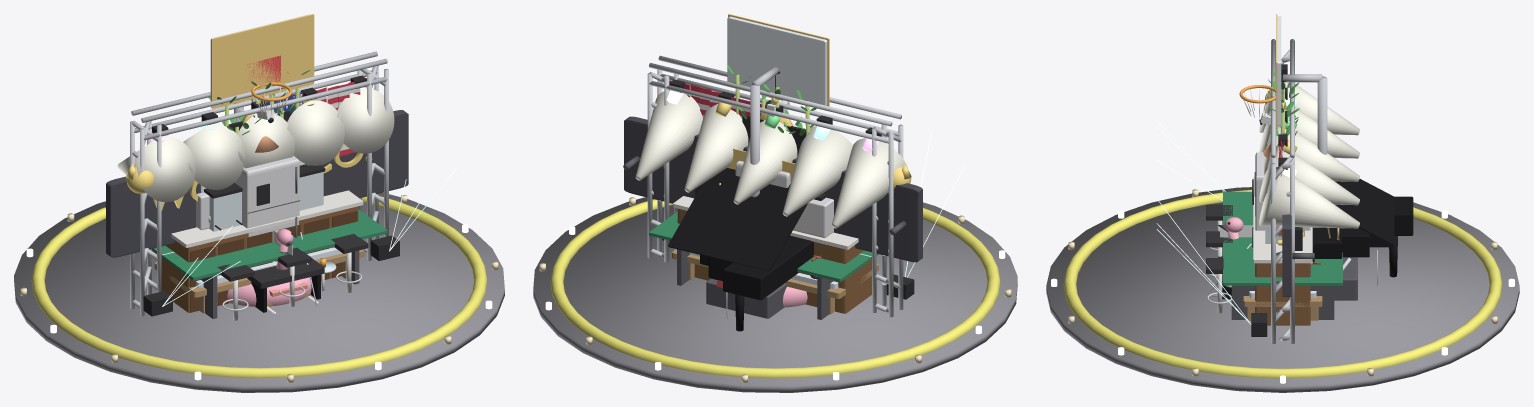
Rendered from PropPack2.fbx.
3 views of the same model, side by side, from view 1: azimuth 30°, elevation 25°; view 2: azimuth 150°, elevation 25°; view 3: azimuth 270°, elevation 25° (orthographic). The views are drawn at different scales.
Parts seen in each view (by area): view 1: Concrete_PadConcrete, Neon_LightBeam, Metal_Steel.007, SmoothPlastic_PadLine, Metal_SignBack, Metal_Gold.003, Wood_PPGreen, Metal_Chrome.018, Wood_SlatDark, Marble_White.001, Wood_Walnut.012, Glass_Clear.005 (+14 smaller); view 2: Concrete_PadConcrete, Neon_LightBeam, SmoothPlastic_PianoBlack, Metal_Steel.007, SmoothPlastic_PadLine, Metal_SignBack, Glass_Backboard, Wood_Walnut.012, Wood_PPGreen, Metal_Graphite.001, Metal_Chrome.014, Metal_Steel (+9 smaller); view 3: Concrete_PadConcrete, SmoothPlastic_PadLine, Neon_LightBeam, SmoothPlastic_PianoBlack, Wood_PPGreen, Metal_Steel.007, Wood_Walnut.012, Metal_Graphite.018, Metal_Steel, Marble_White.001, Leather_Black, Metal_SignBack (+7 smaller).
Part boxes in pixels (left/top/right/bottom): Concrete_PadConcrete: left=14, top=192, right=504, bottom=392; Neon_LightBeam: left=117, top=88, right=394, bottom=202; Metal_Steel.007: left=130, top=51, right=388, bottom=316; SmoothPlastic_PadLine: left=31, top=196, right=487, bottom=377; Metal_SignBack: left=106, top=110, right=408, bottom=257; Metal_Gold.003: left=211, top=14, right=314, bottom=108; Wood_PPGreen: left=152, top=209, right=387, bottom=280; Metal_Chrome.018: left=234, top=156, right=299, bottom=261; Wood_SlatDark: left=190, top=210, right=357, bottom=312; Marble_White.001: left=171, top=190, right=363, bottom=247; Wood_Walnut.012: left=161, top=206, right=358, bottom=312; Glass_Clear.005: left=209, top=172, right=323, bottom=231; Concrete_PadConcrete: left=533, top=197, right=1017, bottom=392; Neon_LightBeam: left=635, top=91, right=907, bottom=228; SmoothPlastic_PianoBlack: left=668, top=168, right=813, bottom=331; Metal_Steel.007: left=647, top=55, right=903, bottom=317; SmoothPlastic_PadLine: left=550, top=199, right=1000, bottom=378; Metal_SignBack: left=624, top=116, right=922, bottom=262; Glass_Backboard: left=727, top=16, right=827, bottom=105; Wood_Walnut.012: left=677, top=208, right=871, bottom=313; Wood_PPGreen: left=649, top=211, right=878, bottom=281; Metal_Graphite.001: left=706, top=278, right=786, bottom=318; Metal_Chrome.014: left=793, top=197, right=876, bottom=258; Metal_Steel: left=750, top=66, right=778, bottom=197; Concrete_PadConcrete: left=1046, top=187, right=1519, bottom=392; SmoothPlastic_PadLine: left=1063, top=189, right=1502, bottom=378; Neon_LightBeam: left=1259, top=82, right=1359, bottom=228; SmoothPlastic_PianoBlack: left=1222, top=179, right=1413, bottom=299; Wood_PPGreen: left=1223, top=191, right=1342, bottom=285; Metal_Steel.007: left=1271, top=39, right=1294, bottom=343; Wood_Walnut.012: left=1255, top=263, right=1310, bottom=325; Metal_Graphite.018: left=1231, top=285, right=1334, bottom=319; Metal_Steel: left=1283, top=74, right=1327, bottom=154; Marble_White.001: left=1253, top=176, right=1312, bottom=263; Leather_Black: left=1206, top=204, right=1232, bottom=273; Metal_SignBack: left=1282, top=214, right=1291, bottom=296.
Bounding box in the file's own units: 600 × 411 × 600.
